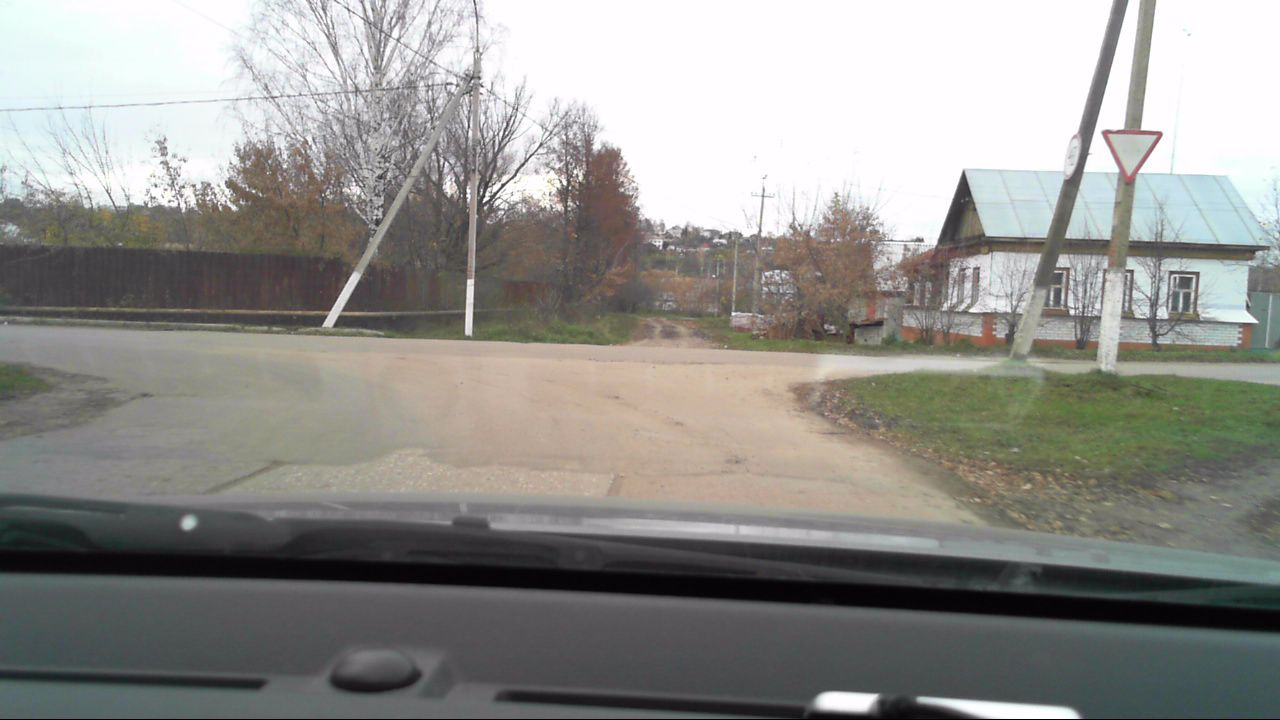speed_warning_40: (1055, 133, 1088, 177)
